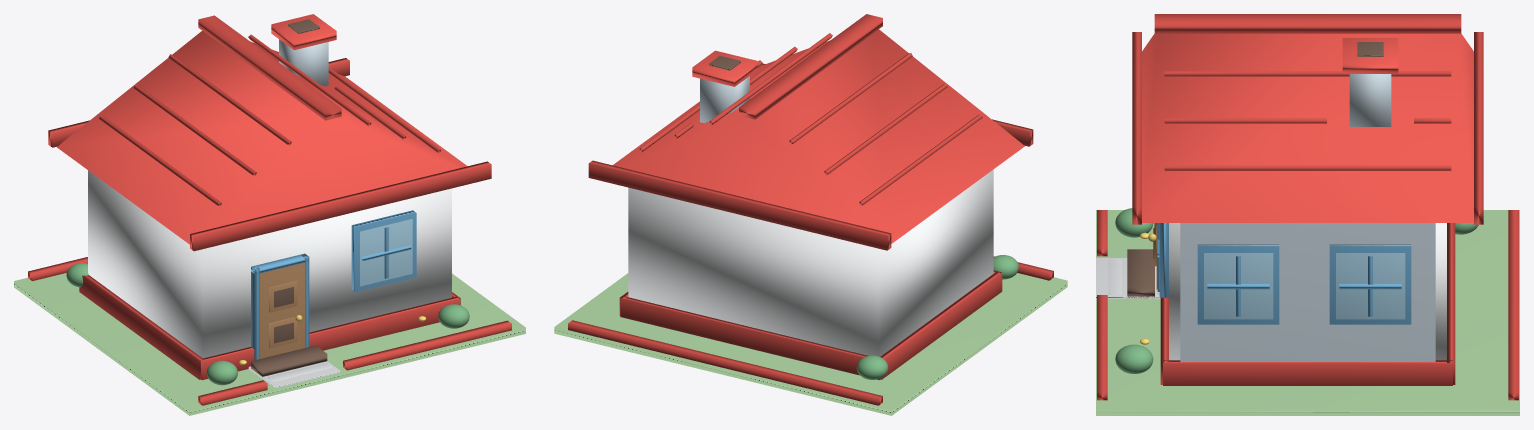
Rendered from casagenerica.glb.
The picture shows the model from 3 angles, left to right: view 1: azimuth 30°, elevation 25°; view 2: azimuth 150°, elevation 25°; view 3: azimuth 270°, elevation 25°; orthographic projection. The views are drawn at different scales.
Parts seen in each view (by area): view 1: Casa_Techo_Rojo_Detallado, Casa_Paredes_Suaves, Casa_Grama_Base_Redondeada, Casa_Techo_Fascia_Frontal, Casa_Zocalo_Frontal_Rojo, Casa_Techo_Cumbrera_Roja, Casa_Zocalo_Izquierdo_Rojo, Ventana_Frontal_Principal_Cristal, Puerta_Cuerpo_Madera, Casa_Borde_Base_Frontal_Derecho, Ventana_Frontal_Principal_Marco_Azul, Casa_Chimenea_Cuerpo (+17 smaller); view 2: Casa_Techo_Rojo_Detallado, Casa_Paredes_Suaves, Casa_Grama_Base_Redondeada, Casa_Techo_Fascia_Trasero, Casa_Zocalo_Trasero_Rojo, Casa_Borde_Base_Trasero, Casa_Techo_Cumbrera_Roja, Casa_Zocalo_Izquierdo_Rojo, Casa_Chimenea_Cuerpo, Casa_Chimenea_Tapa_Roja, Casa_Techo_Linea_Teja_Der_1, Casa_Techo_Linea_Teja_Izq_2 (+5 smaller); view 3: Casa_Techo_Rojo_Detallado, Casa_Grama_Base_Redondeada, Casa_Pared_Lateral_Azulada, Casa_Zocalo_Derecho_Rojo, Casa_Techo_Cumbrera_Roja, Ventana_Lateral_Frontal_Cristal, Ventana_Lateral_Trasera_Cristal, Casa_Paredes_Suaves, Casa_Chimenea_Cuerpo, Ventana_Lateral_Frontal_Marco_Azul, Ventana_Lateral_Trasera_Marco_Azul, Casa_Borde_Base_Trasero (+17 smaller).
Part boxes in pixels (box(x1,y1,x2,y2)): Casa_Techo_Rojo_Detallado: box(57, 30, 467, 244); Casa_Paredes_Suaves: box(88, 170, 451, 358); Casa_Grama_Base_Redondeada: box(14, 273, 525, 415); Casa_Techo_Fascia_Frontal: box(190, 161, 491, 251); Casa_Zocalo_Frontal_Rojo: box(200, 296, 459, 380); Casa_Techo_Cumbrera_Roja: box(198, 15, 341, 120); Casa_Zocalo_Izquierdo_Rojo: box(79, 275, 204, 379); Ventana_Frontal_Principal_Cristal: box(360, 219, 412, 286); Puerta_Cuerpo_Madera: box(260, 262, 305, 358); Casa_Borde_Base_Frontal_Derecho: box(343, 320, 511, 370); Ventana_Frontal_Principal_Marco_Azul: box(351, 210, 416, 291); Casa_Chimenea_Cuerpo: box(279, 39, 328, 86); Casa_Techo_Rojo_Detallado: box(613, 29, 1024, 243); Casa_Paredes_Suaves: box(628, 169, 993, 356); Casa_Grama_Base_Redondeada: box(554, 273, 1067, 415); Casa_Techo_Fascia_Trasero: box(588, 160, 891, 250); Casa_Zocalo_Trasero_Rojo: box(620, 296, 879, 379); Casa_Borde_Base_Trasero: box(568, 320, 882, 405); Casa_Techo_Cumbrera_Roja: box(739, 14, 882, 119); Casa_Zocalo_Izquierdo_Rojo: box(880, 272, 1002, 379); Casa_Chimenea_Cuerpo: box(700, 76, 749, 122); Casa_Chimenea_Tapa_Roja: box(692, 50, 757, 86); Casa_Techo_Linea_Teja_Der_1: box(709, 33, 832, 124); Casa_Techo_Linea_Teja_Izq_2: box(824, 83, 947, 174); Casa_Techo_Rojo_Detallado: box(1142, 33, 1473, 222); Casa_Grama_Base_Redondeada: box(1096, 210, 1519, 415); Casa_Pared_Lateral_Azulada: box(1180, 223, 1435, 361); Casa_Zocalo_Derecho_Rojo: box(1163, 360, 1452, 385); Casa_Techo_Cumbrera_Roja: box(1154, 14, 1461, 33); Ventana_Lateral_Frontal_Cristal: box(1204, 253, 1273, 319); Ventana_Lateral_Trasera_Cristal: box(1336, 253, 1405, 319); Casa_Paredes_Suaves: box(1169, 223, 1446, 360); Casa_Chimenea_Cuerpo: box(1349, 74, 1391, 126); Ventana_Lateral_Frontal_Marco_Azul: box(1197, 244, 1279, 324); Ventana_Lateral_Trasera_Marco_Azul: box(1329, 244, 1411, 324); Casa_Borde_Base_Trasero: box(1508, 210, 1518, 400).
Size of the model in its own units: 1.35 by 0.9652 by 1.22.
